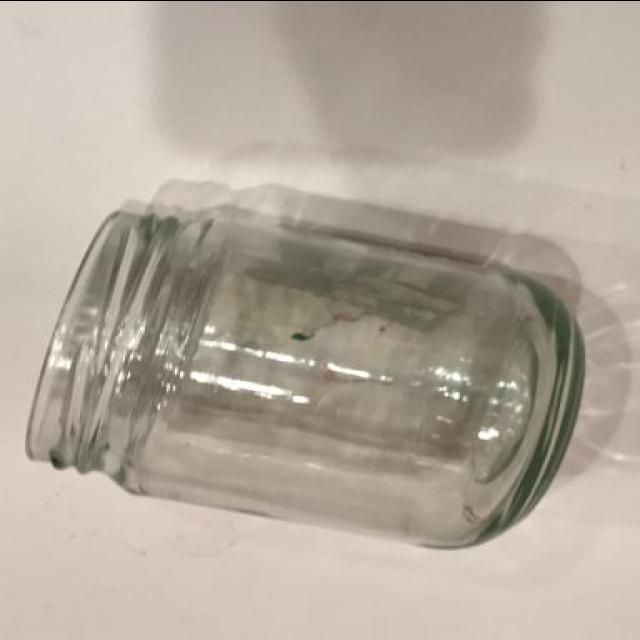Glass Bottle: (35, 194, 605, 555)
